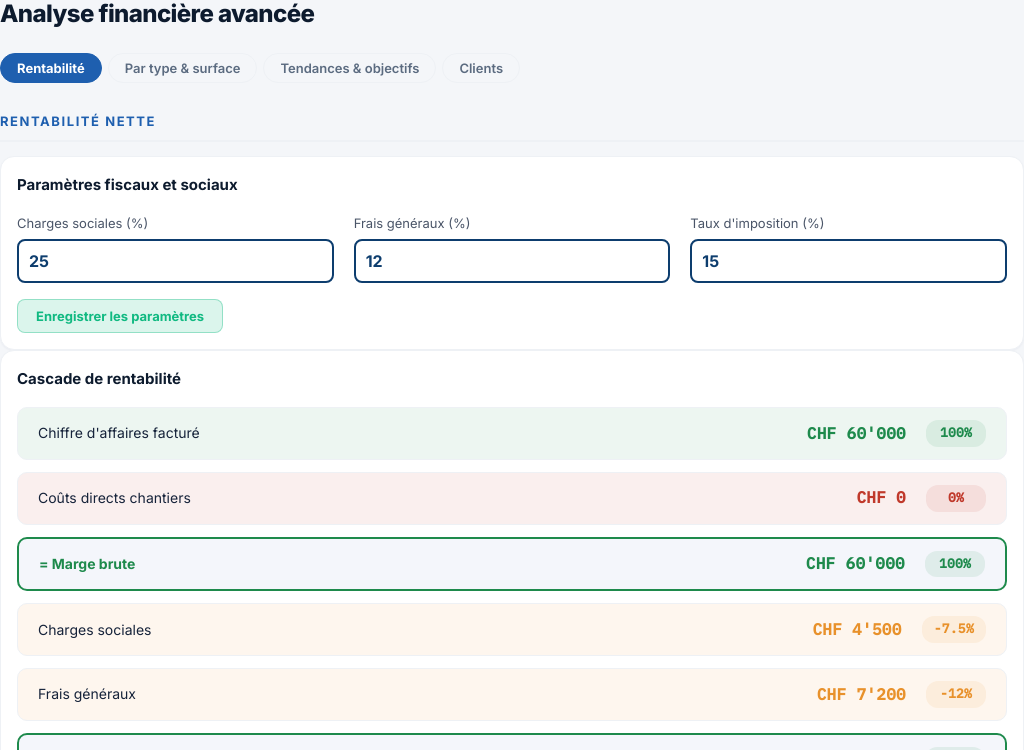
Test case: BARRE des 4 sous-onglets + bascule › basculer vers « Par type & surface » masque la cascade (autre vue conservée)
The width and height of the screenshot is (1024, 750).
Expected: the text "Cascade de rentabilité" is shown, [17,369,181,388]
Click the button "Par type & surface": click(183, 68) [108,53,257,83]
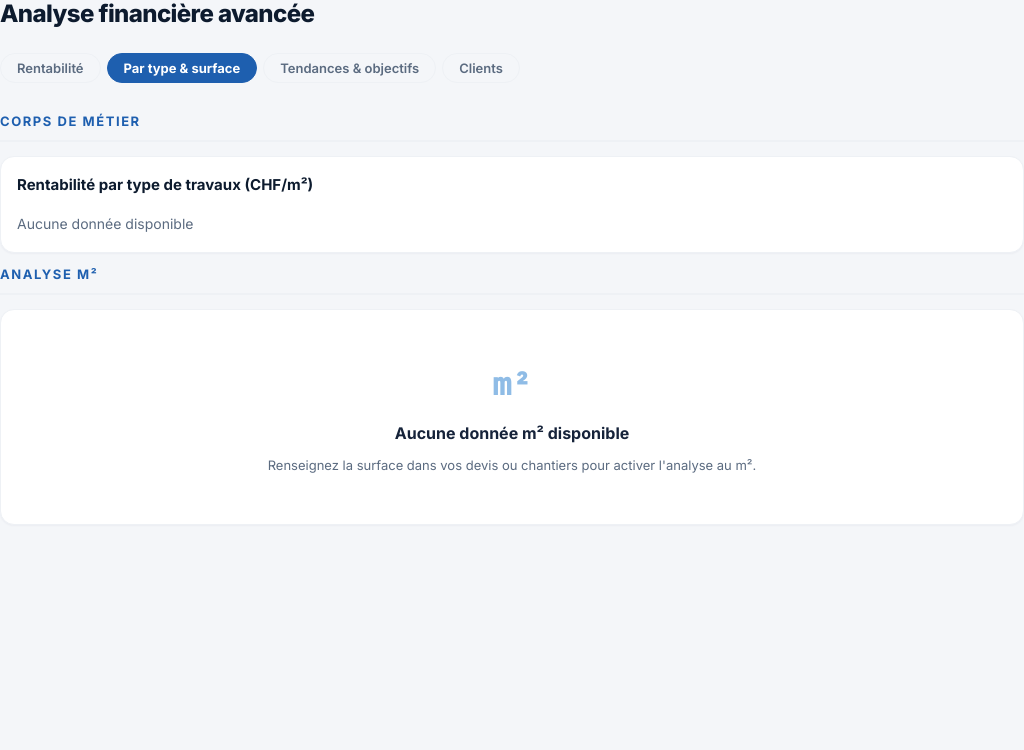
Expected: the text "Cascade de rentabilité" is gone
Expected: the text "Corps de métier" is shown, [0,113,141,129]
